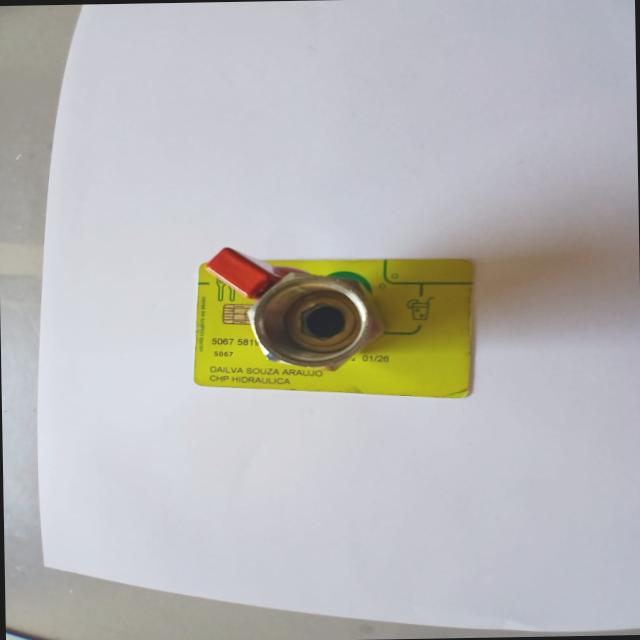cartao: (190, 257, 479, 402)
rosca_interna: (248, 275, 379, 372)
